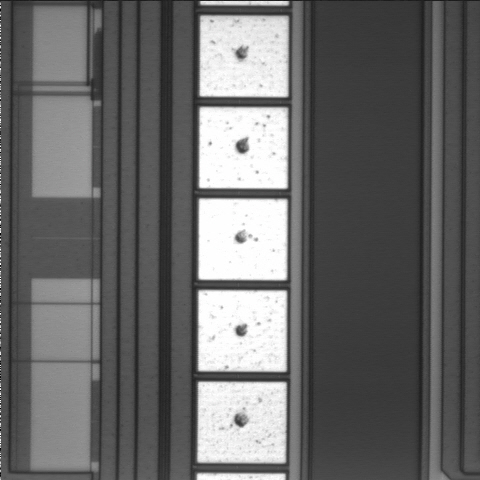pad: (199, 107, 288, 189), (198, 290, 287, 372), (198, 199, 287, 280), (197, 382, 286, 463), (200, 16, 288, 97)
